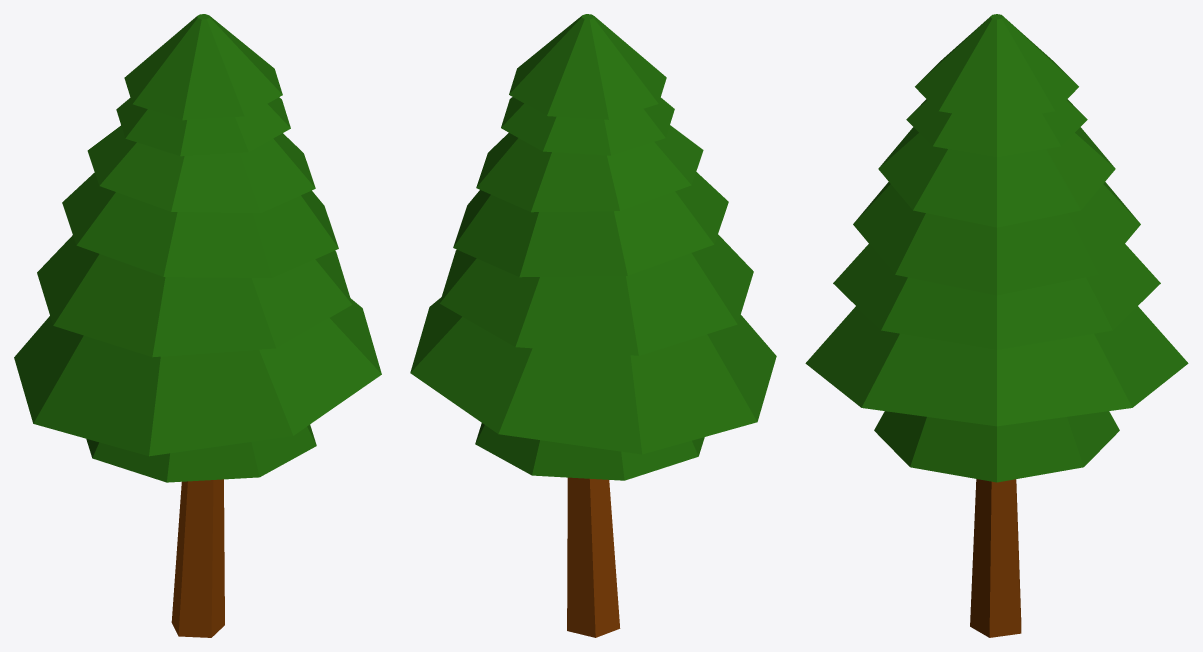
Rendered from tree 1.fbx.
The picture shows the model from 3 angles, left to right: view 1: azimuth 30°, elevation 25°; view 2: azimuth 150°, elevation 25°; view 3: azimuth 270°, elevation 25°; orthographic projection.
Visible parts, largest first — view 1: Cylinder.007; view 2: Cylinder.007; view 3: Cylinder.007.
Part boxes in pixels (x1,y1,x2,y2): Cylinder.007: [14, 14, 381, 637]; Cylinder.007: [410, 14, 776, 637]; Cylinder.007: [805, 14, 1188, 637].
Size of the model in its own units: 175 by 310 by 176.
